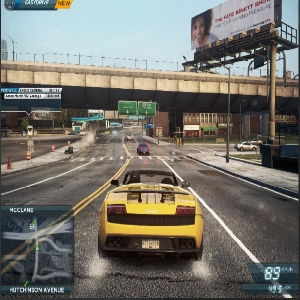ad: (189, 5, 282, 49)
building: (170, 66, 235, 137)
garbage: (63, 146, 76, 155)
lamp post: (206, 57, 237, 166)
mailbox: (176, 136, 188, 147)
road sign: (117, 98, 157, 116), (26, 122, 40, 166)
vehicle: (233, 138, 257, 154), (135, 139, 152, 157), (126, 133, 135, 142), (110, 128, 119, 135)
